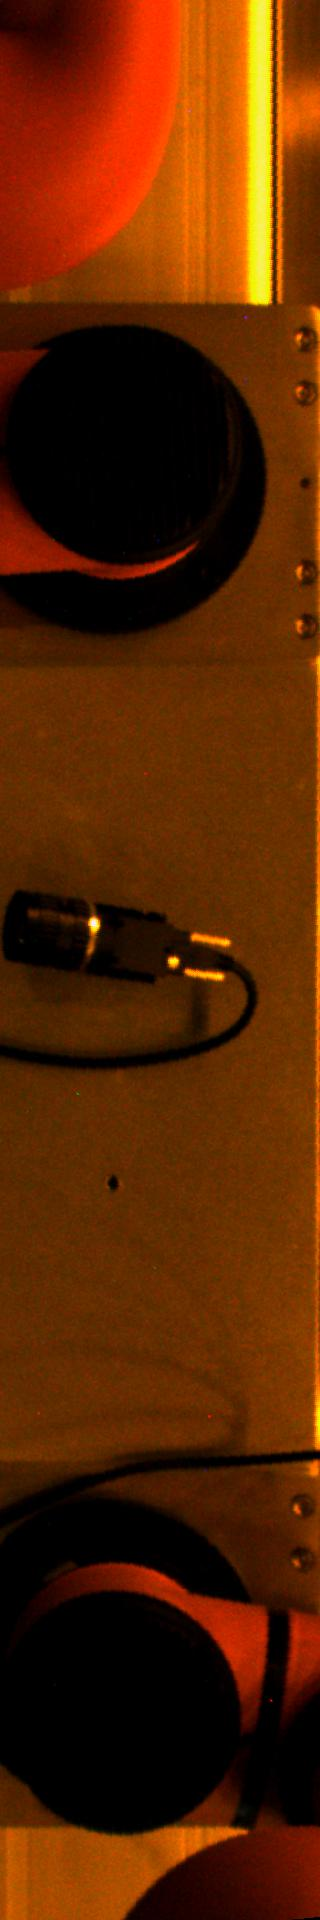keyPoint_2: (97, 1168, 128, 1198)
